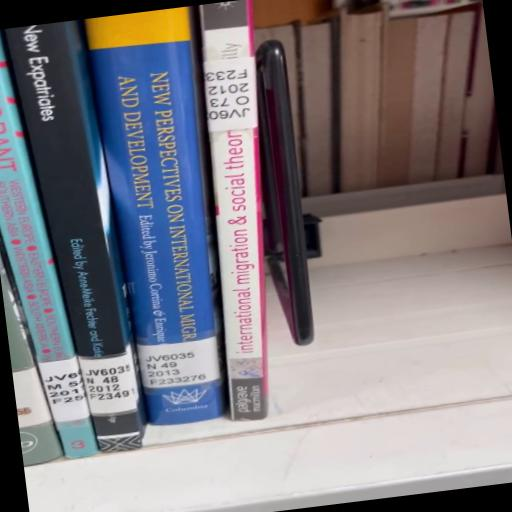reverse: (200, 1, 314, 422)
